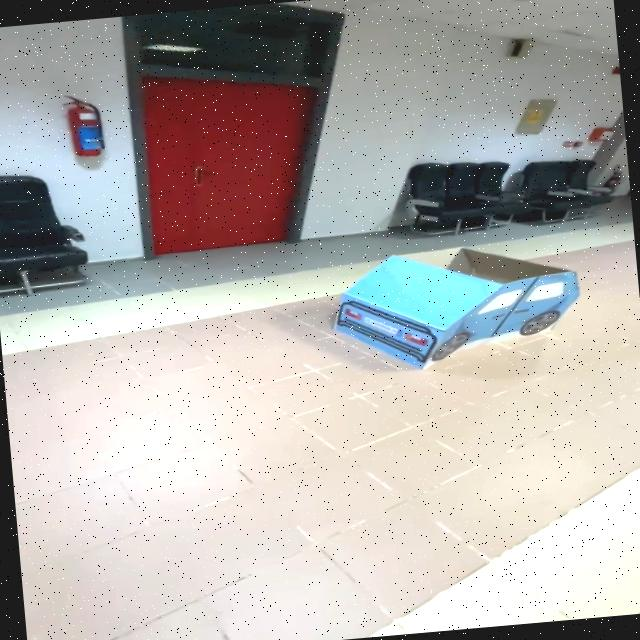blue_car: (299, 230, 606, 381)
